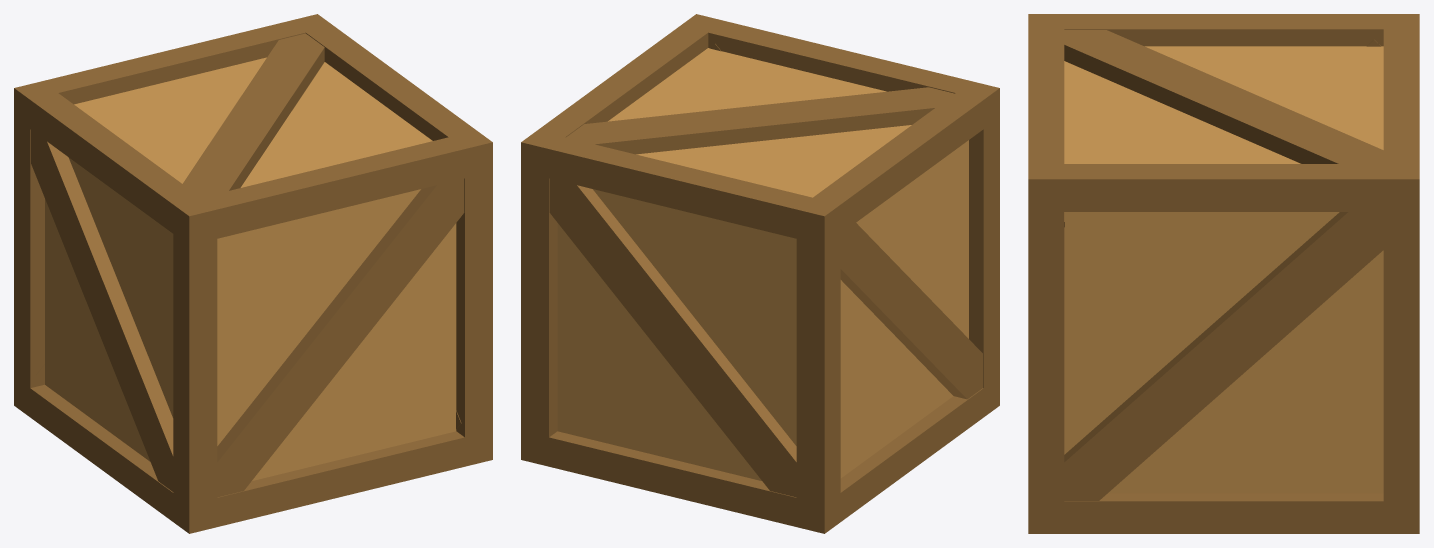
Rendered from Crate.fbx.
The picture shows the model from 3 angles, left to right: view 1: azimuth 30°, elevation 25°; view 2: azimuth 150°, elevation 25°; view 3: azimuth 270°, elevation 25°; orthographic projection. The views are drawn at different scales.
Parts seen in each view (by area): view 1: crate; view 2: crate; view 3: crate.
Part boxes in pixels (x1,y1,x2,y2): crate: [14, 14, 492, 533]; crate: [521, 14, 999, 533]; crate: [1028, 14, 1419, 533].
Bounding box in the file's own units: 1.43 × 1.43 × 1.43.
